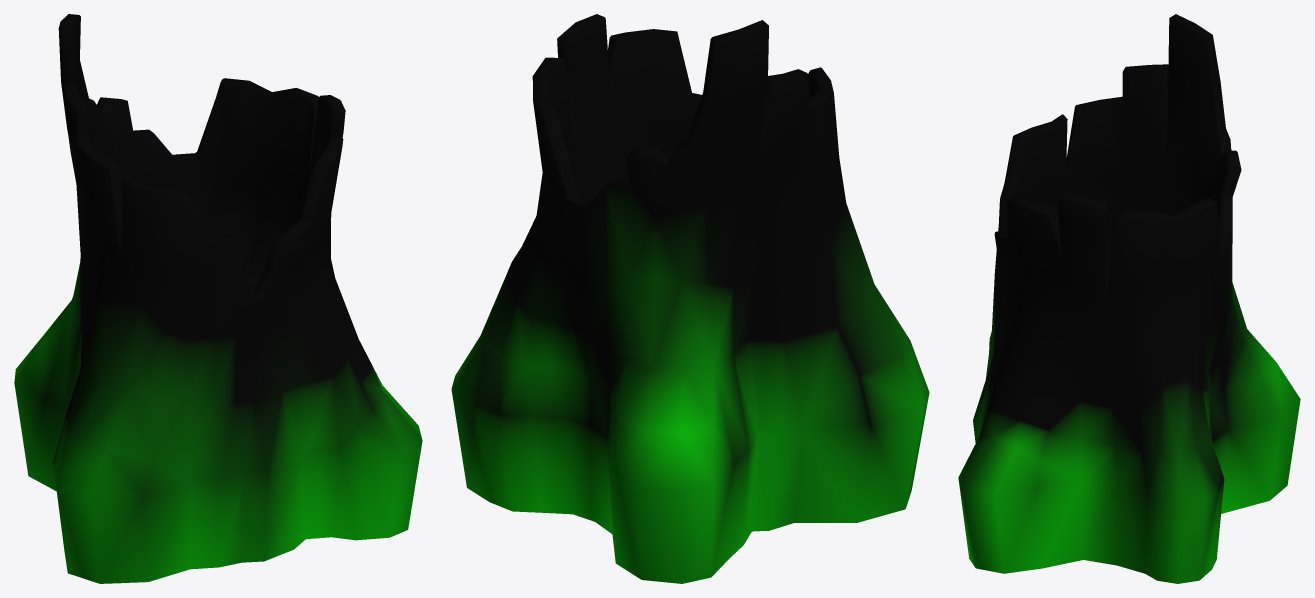
Rendered from SM_OakStump1.FBX.
3 views of the same model, side by side, from view 1: azimuth 30°, elevation 25°; view 2: azimuth 150°, elevation 25°; view 3: azimuth 270°, elevation 25° (orthographic). The views are drawn at different scales.
Parts seen in each view (by area): view 1: SM_OakStump1_LOD0; view 2: SM_OakStump1_LOD0; view 3: SM_OakStump1_LOD0.
Boxes of the visible parts, bbox=[...] form: SM_OakStump1_LOD0: bbox=[14, 14, 422, 583]; SM_OakStump1_LOD0: bbox=[451, 14, 929, 583]; SM_OakStump1_LOD0: bbox=[958, 14, 1300, 583].
Bounding box in the file's own units: 259 × 232 × 336.
